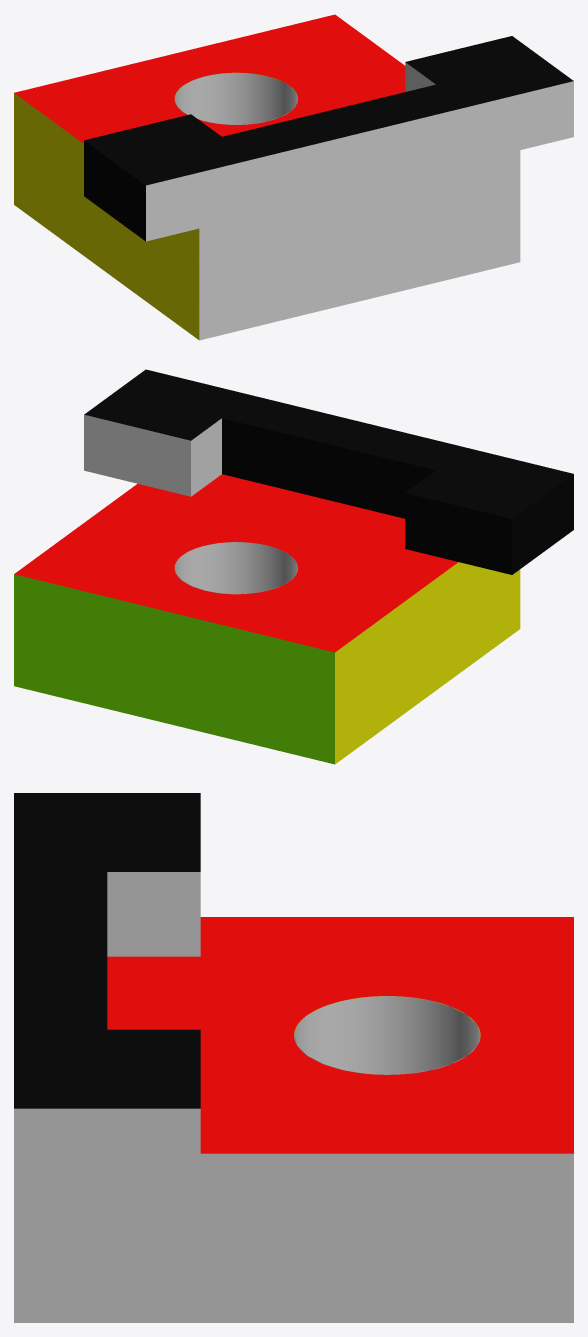
Rendered from Dealba_2.fbx.
3 views of the same model, one above another, from view 1: azimuth 30°, elevation 25°; view 2: azimuth 150°, elevation 25°; view 3: azimuth 270°, elevation 25° (orthographic). The views are drawn at different scales.
Parts seen in each view (by area): view 1: 283_TRM_SRF, 167_TRM_SRF, 437_TRM_SRF, 307_TRM_SRF, 223_TRM_SRF, 459_TRM_SRF, 551_TRM_SRF; view 2: 167_TRM_SRF, 389_TRM_SRF, 437_TRM_SRF, 307_TRM_SRF, 529_TRM_SRF, 485_TRM_SRF, 575_TRM_SRF, 195_TRM_SRF, 459_TRM_SRF, 551_TRM_SRF; view 3: 367_TRM_SRF, 167_TRM_SRF, 437_TRM_SRF, 411_TRM_SRF, 507_TRM_SRF, 195_TRM_SRF, 223_TRM_SRF.
Boxes of the visible parts, box(x1,y1,x2,y2) form: 283_TRM_SRF: box(146, 81, 573, 340); 167_TRM_SRF: box(14, 14, 405, 143); 437_TRM_SRF: box(84, 36, 573, 185); 307_TRM_SRF: box(14, 93, 199, 339); 223_TRM_SRF: box(174, 72, 289, 124); 459_TRM_SRF: box(84, 140, 145, 241); 551_TRM_SRF: box(405, 62, 435, 91); 167_TRM_SRF: box(14, 474, 458, 652); 389_TRM_SRF: box(14, 574, 334, 764); 437_TRM_SRF: box(84, 369, 573, 518); 307_TRM_SRF: box(335, 562, 520, 764); 529_TRM_SRF: box(222, 418, 435, 518); 485_TRM_SRF: box(405, 493, 512, 574); 575_TRM_SRF: box(84, 414, 190, 496); 195_TRM_SRF: box(182, 542, 297, 594); 459_TRM_SRF: box(512, 474, 573, 574); 551_TRM_SRF: box(191, 418, 221, 496); 367_TRM_SRF: box(14, 1153, 573, 1322); 167_TRM_SRF: box(107, 917, 573, 1153); 437_TRM_SRF: box(14, 793, 200, 1108); 411_TRM_SRF: box(14, 1108, 200, 1193); 507_TRM_SRF: box(107, 872, 200, 956); 195_TRM_SRF: box(294, 996, 387, 1074); 223_TRM_SRF: box(387, 996, 480, 1074).
Bounding box in the file's own units: 8 × 3 × 6.
